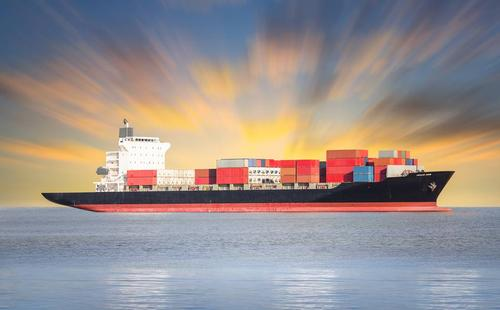Cargoship: (42, 123, 453, 216)
